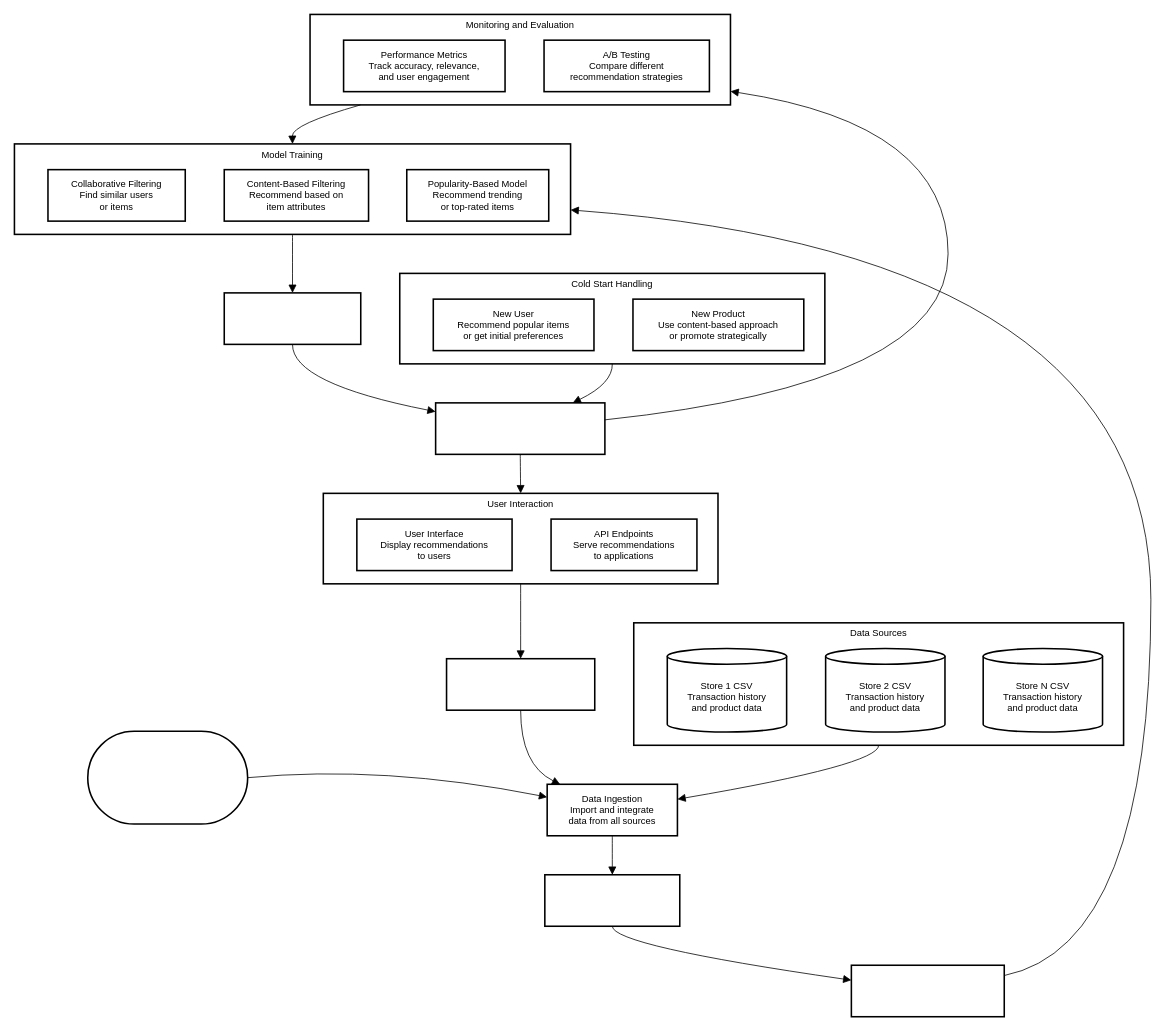
Image size: 1165x1030. Some labels were removed from this diagram. Here are the shapes that lost their labels. From the top down, the centre of each, then its label:
the point at 292,318: Hybrid Model Combine outputs from different models
the point at 519,428: Generate Recommendations Create personalized product suggestions
the point at 520,684: Feedback Collection Gather user interactions and explicit feedback
the point at 167,777: Start
the point at 612,900: Data Processing Clean, transform, and prepare raw data
the point at 927,990: Feature Engineering Extract relevant features for model input
